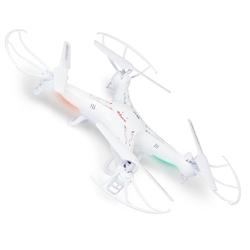drone: (4, 29, 244, 217)
